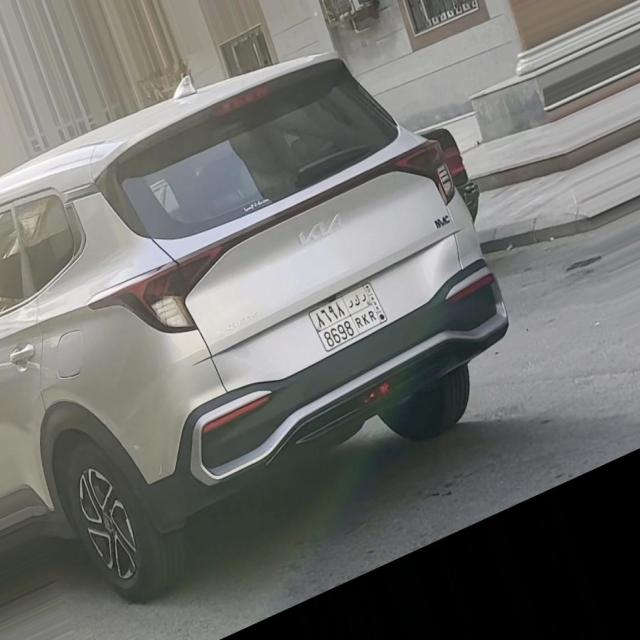Car-plate: (301, 271, 403, 359)
